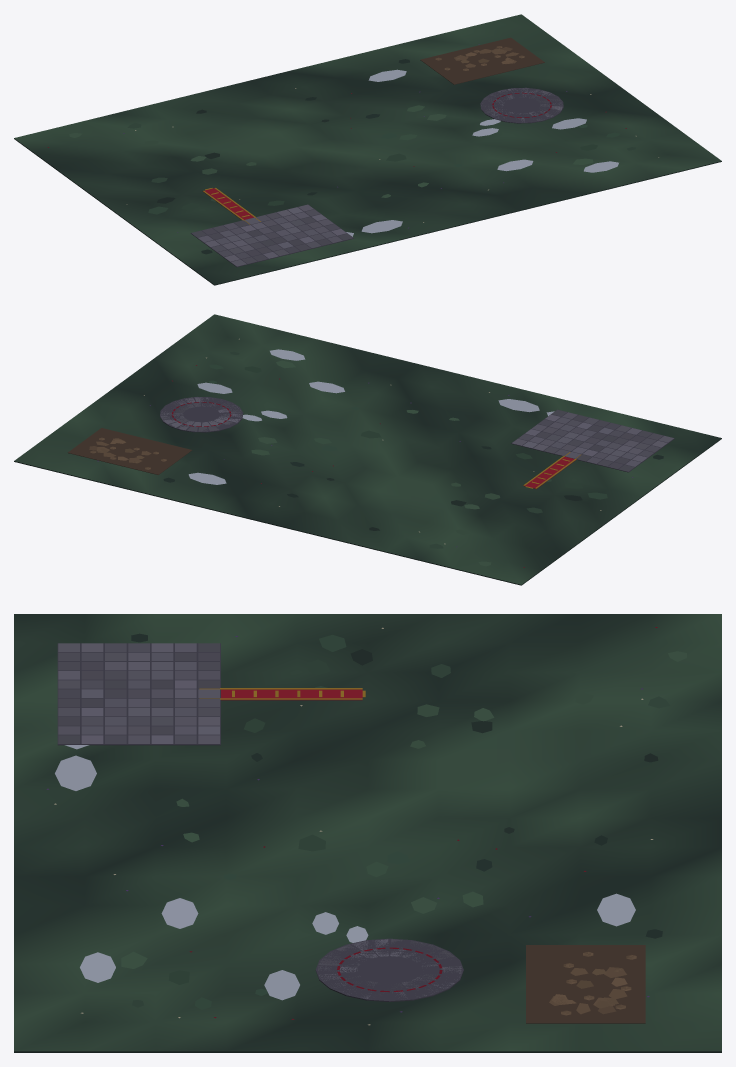
The model's file is Decor_VampireCrypt_Ground.fbx.
3 views of the same model, one above another, from view 1: azimuth 30°, elevation 25°; view 2: azimuth 150°, elevation 25°; view 3: azimuth 270°, elevation 25° (orthographic). The views are drawn at different scales.
Parts seen in each view (by area): view 1: Ground_Body; view 2: Ground_Body; view 3: Ground_Body.
Boxes of the visible parts, x1,y1,x2,y2 form: Ground_Body: (14, 14, 721, 285); Ground_Body: (14, 314, 721, 585); Ground_Body: (14, 614, 721, 1052).
Size of the model in its own units: 190 by 0.5 by 130.
